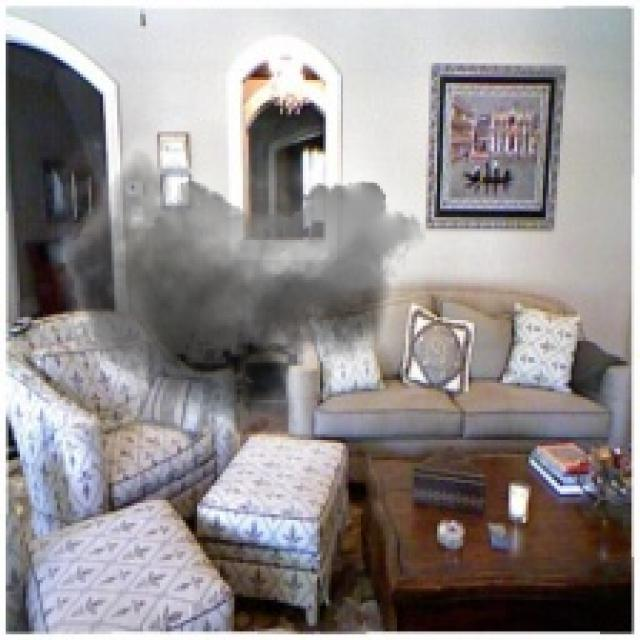smoke: (31, 69, 426, 488)
